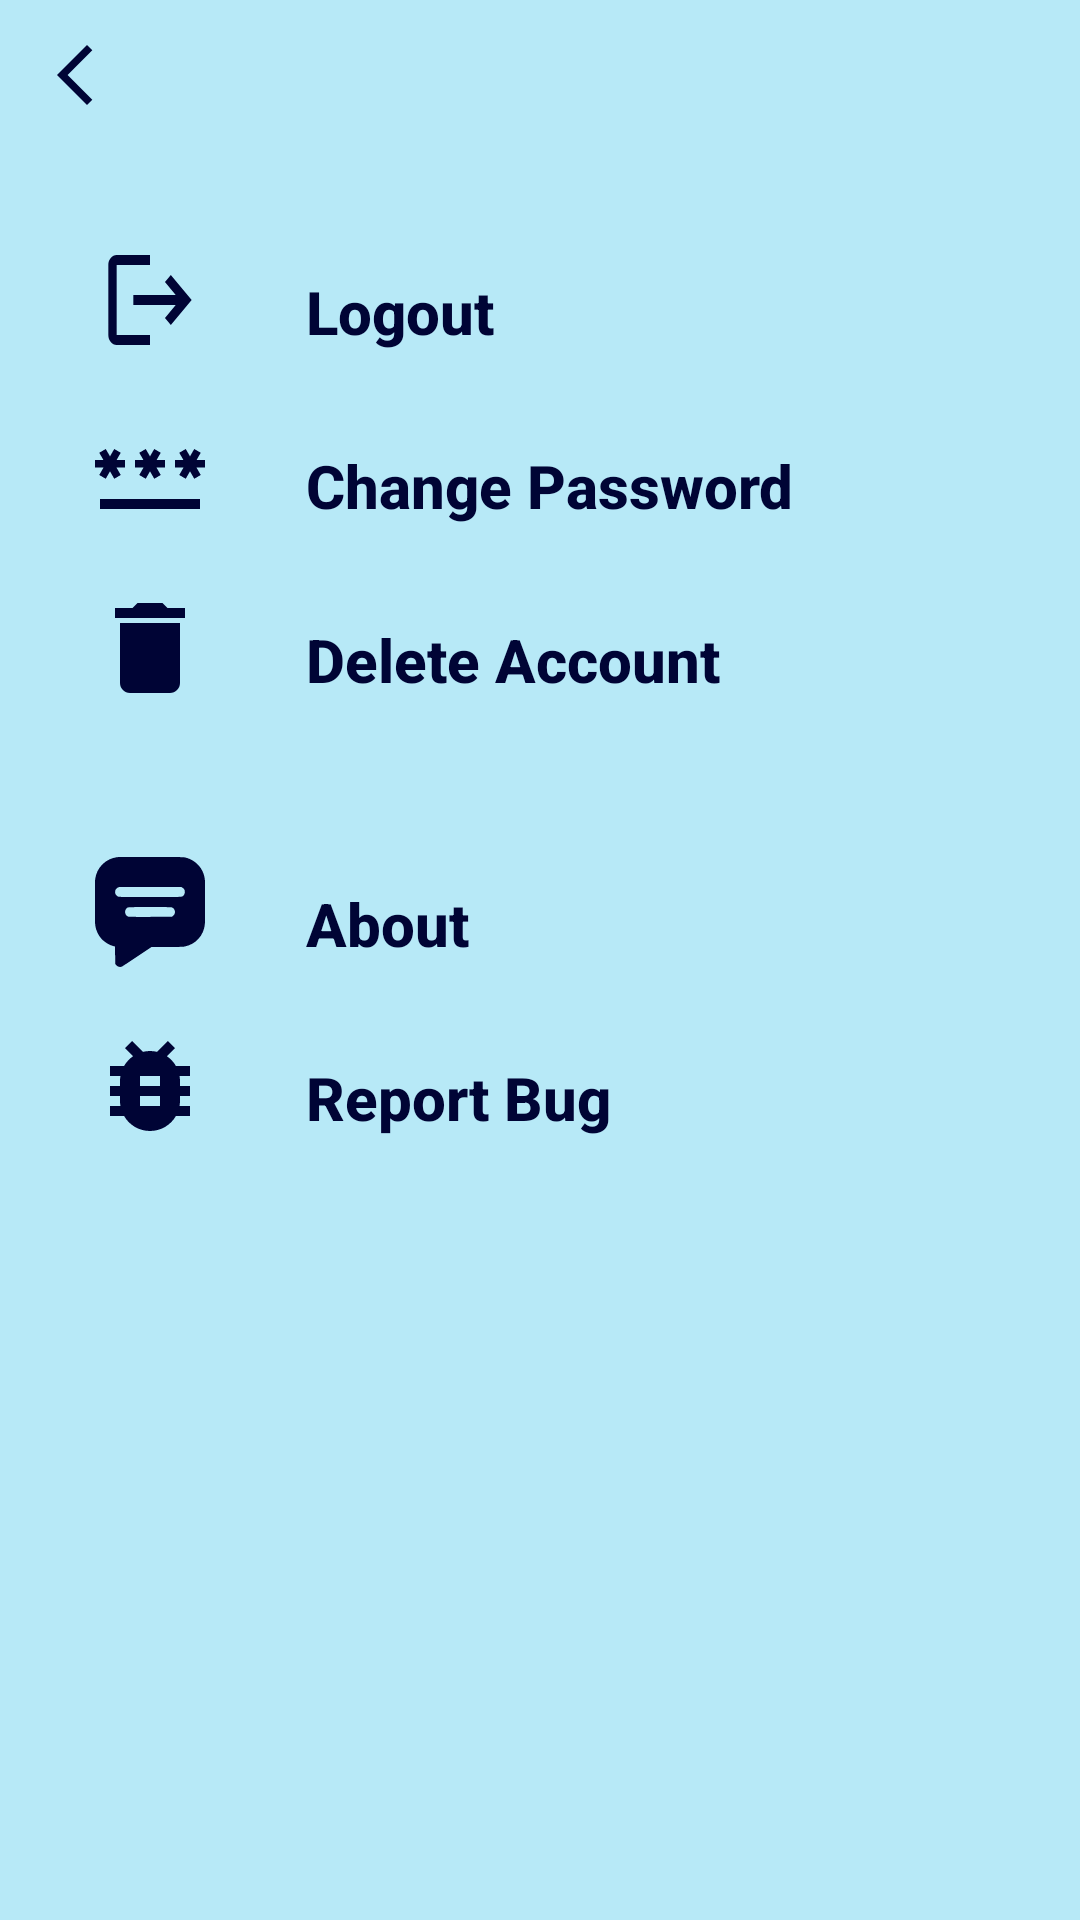

Locate icon controls on the screen. Image size 1080×1920, boxes as (x1, y1, x2, y2).
arrow back: (57, 45, 92, 105)
contact us: (95, 857, 205, 967)
